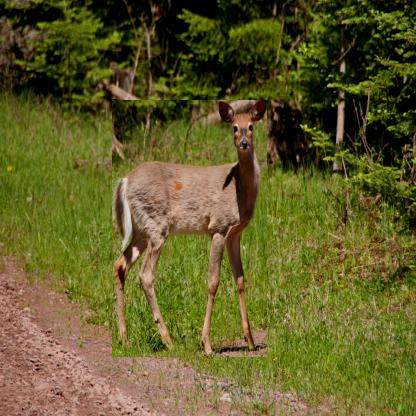Deer: (112, 100, 267, 357)
